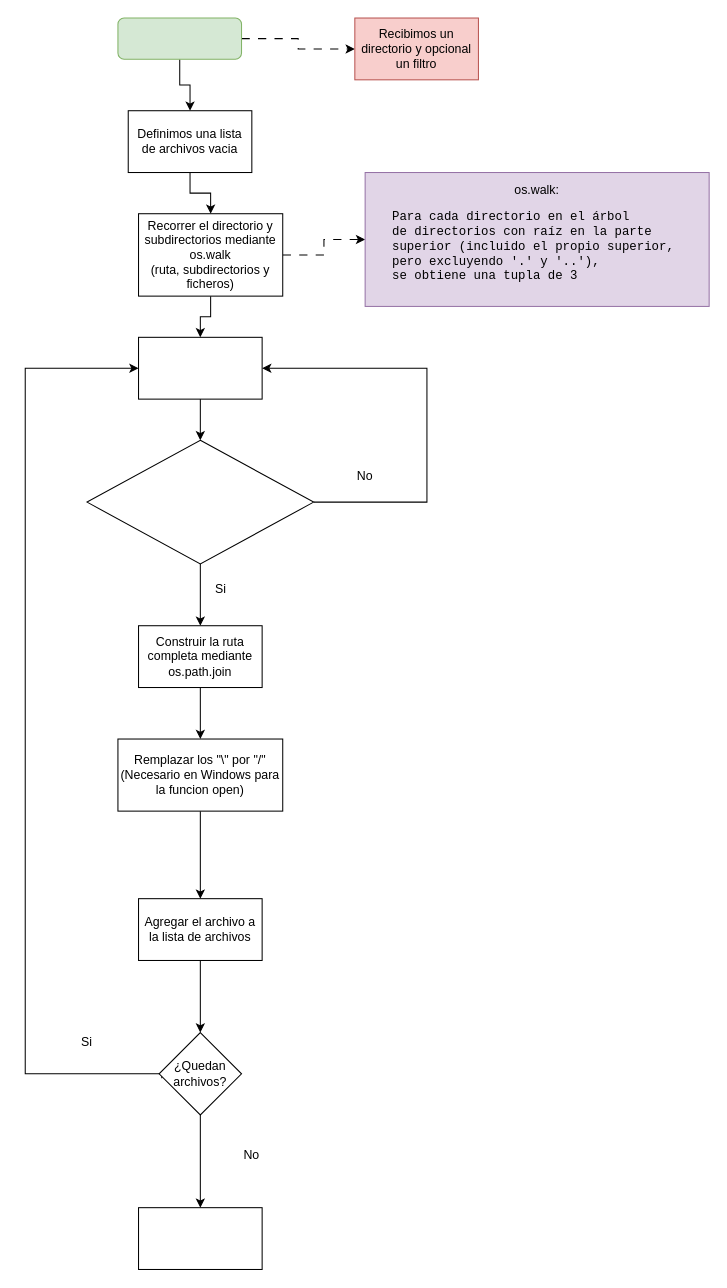
This 727x1288 diagram has some shape labels left out. Here are the shapes that lost their labels. From the top down, the centre of each, then its label:
At (179,38): "Inicio".
At (200,367): "Iterar cada archivo en la lista de ficheros".
At (200,501): "Comprobar si cumplen con el filtro (.stream por defecto)".
At (200,1238): "Devolver la lista de archivos".
